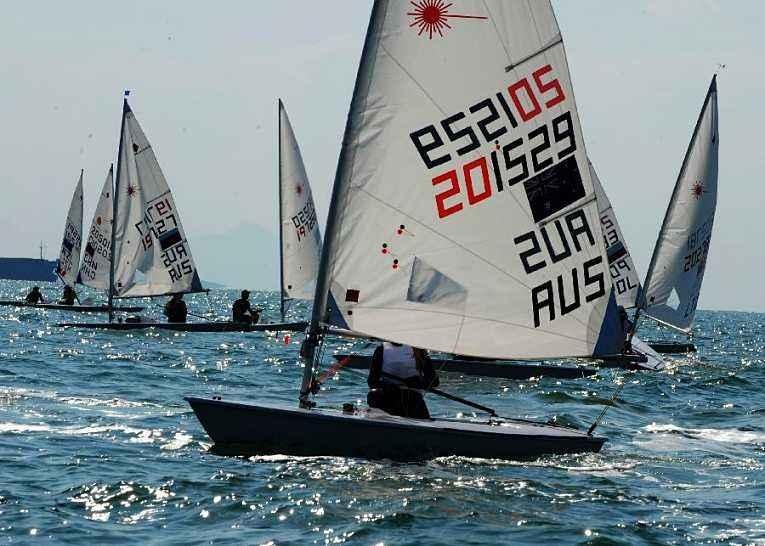fanchuan: (190, 1, 643, 471), (50, 97, 314, 334), (3, 158, 131, 313)
